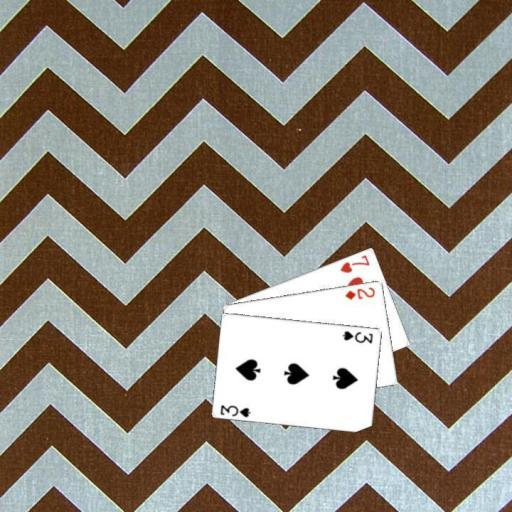card-corner: (337, 251, 371, 275), (342, 284, 377, 301), (340, 327, 375, 344), (218, 402, 252, 418)
